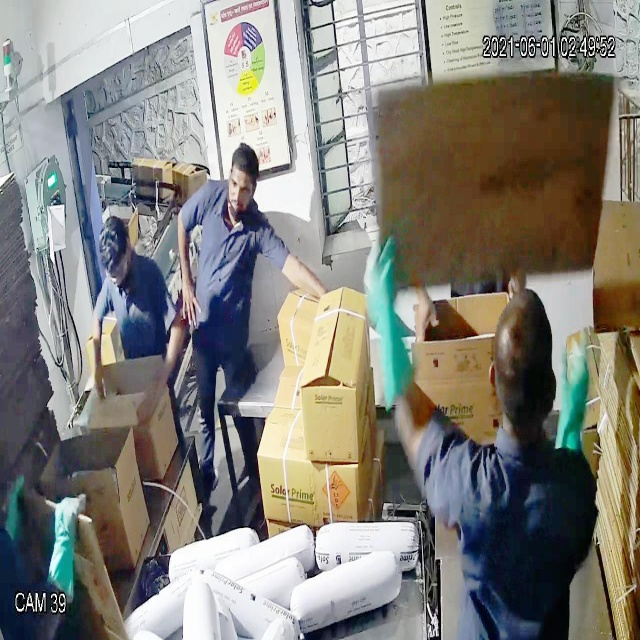Sin_gafas: (226, 172, 261, 204)
